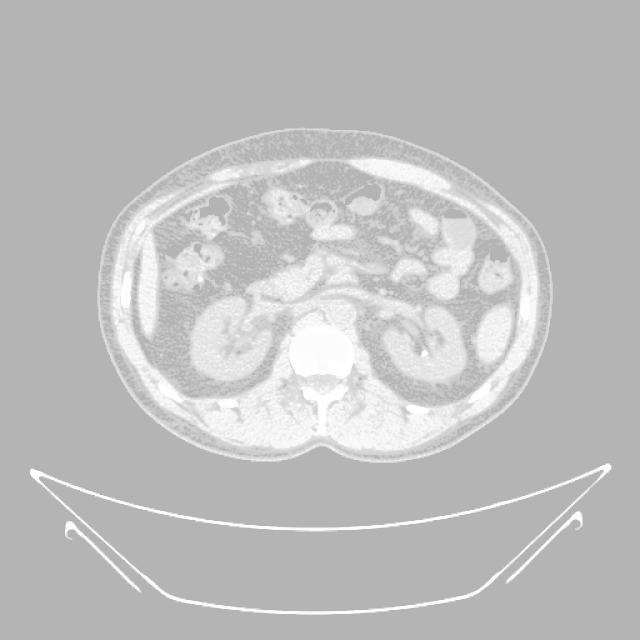STONE: (161, 164, 495, 378)
